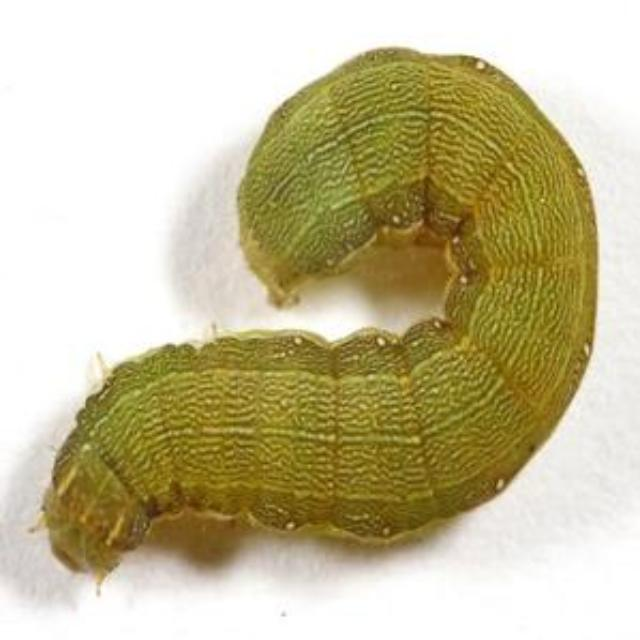Beet armyworm: (19, 19, 608, 608)
